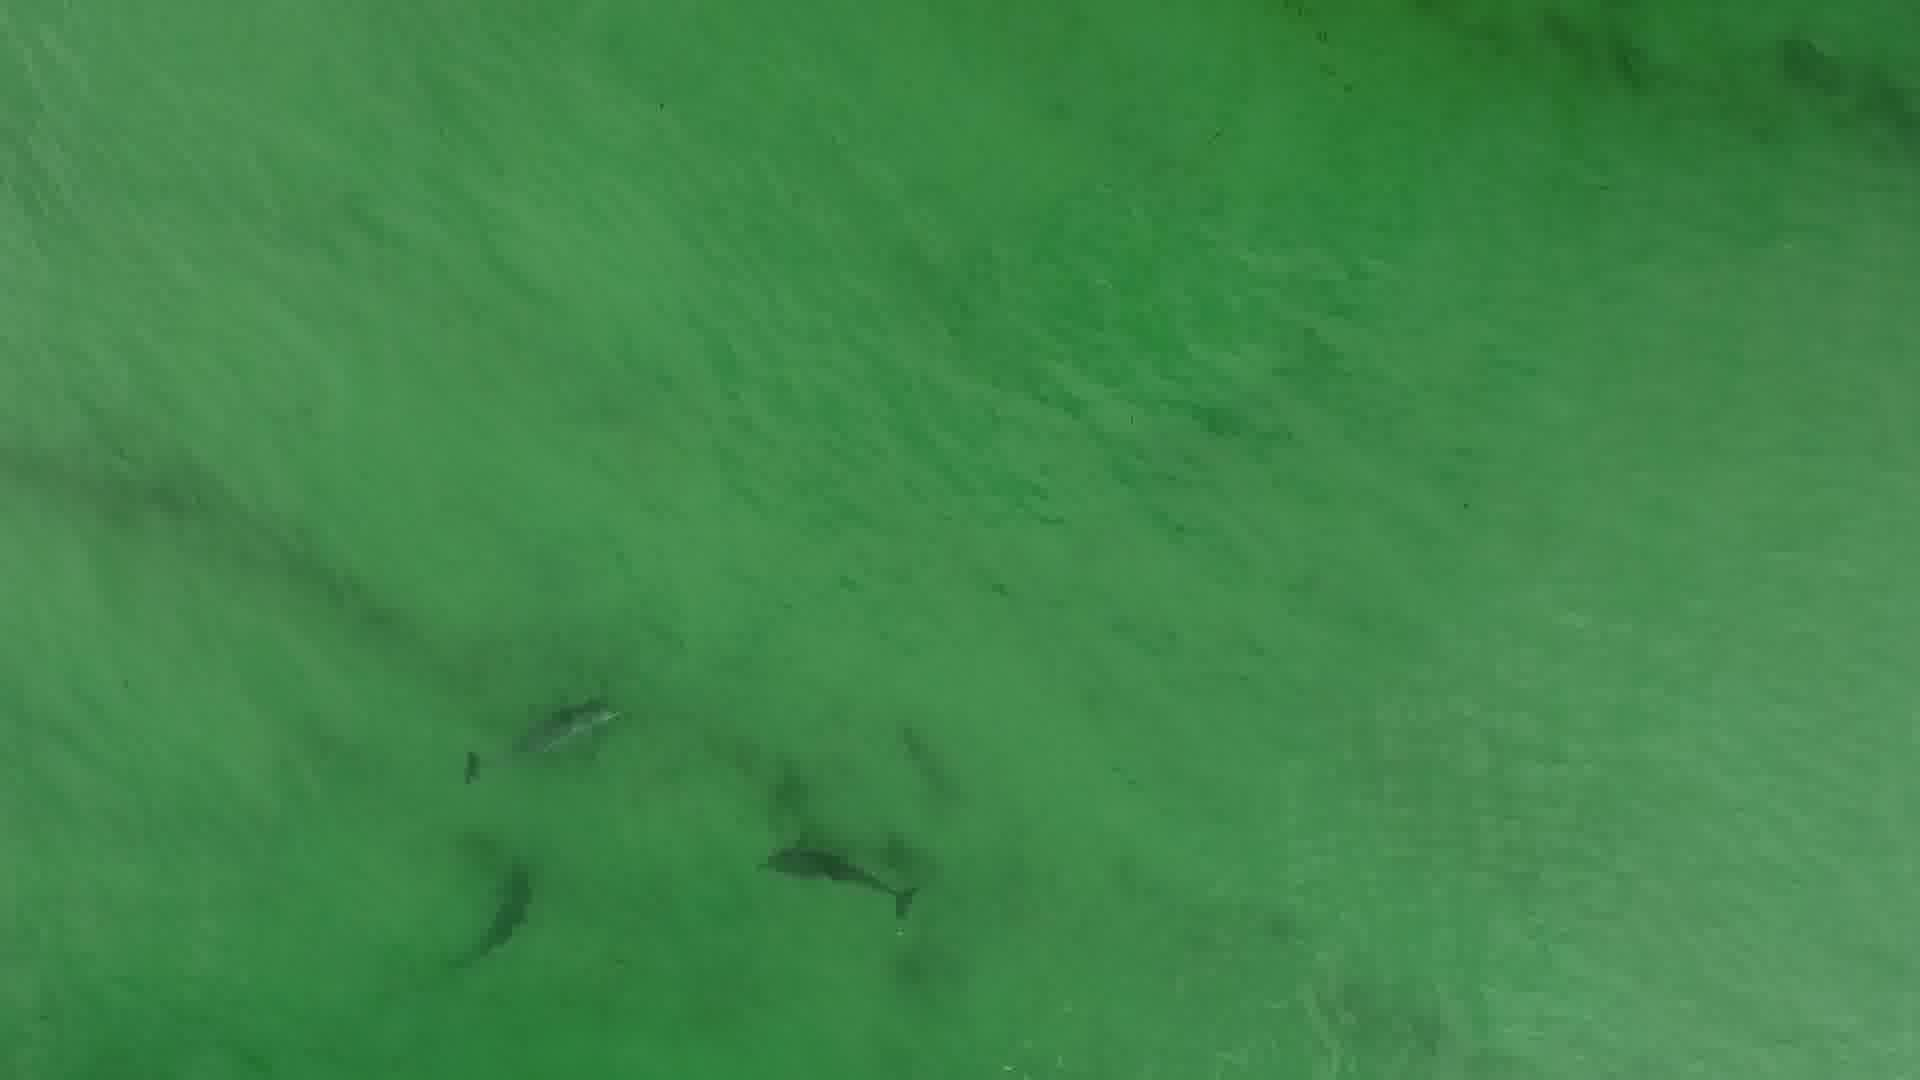dolphin: (741, 808, 930, 945), (417, 671, 624, 778)
